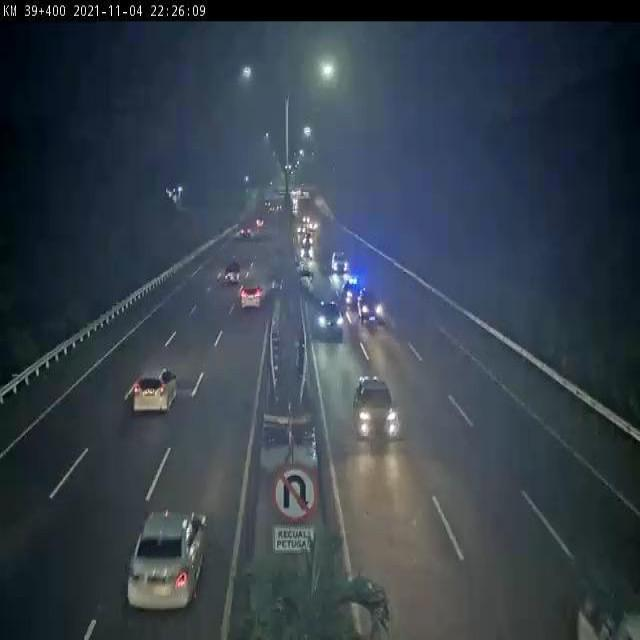car: (125, 496, 218, 613), (566, 565, 633, 640), (128, 348, 190, 421), (349, 367, 401, 451), (307, 280, 345, 359), (346, 272, 385, 343), (242, 268, 267, 317), (221, 255, 247, 283)
